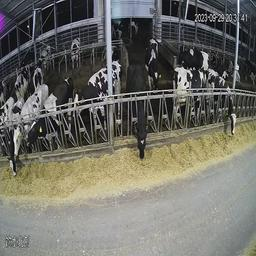cow: (27, 74, 74, 162), (74, 59, 123, 138), (11, 82, 48, 162), (125, 61, 150, 162), (171, 63, 206, 131), (205, 68, 233, 137), (0, 88, 20, 157), (9, 93, 24, 179), (187, 43, 218, 80), (146, 27, 166, 76), (14, 60, 31, 101), (67, 33, 83, 71), (227, 57, 244, 85), (36, 41, 51, 72), (103, 41, 121, 66), (32, 59, 44, 96), (110, 17, 126, 41)
